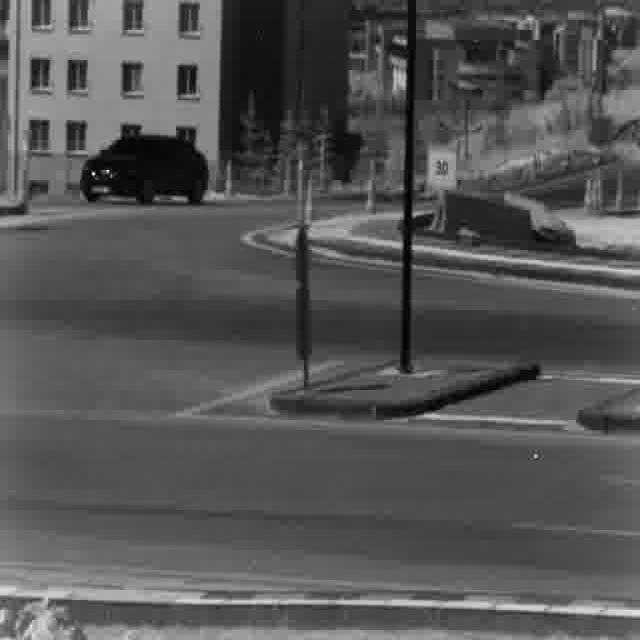Car: (81, 133, 206, 208)
